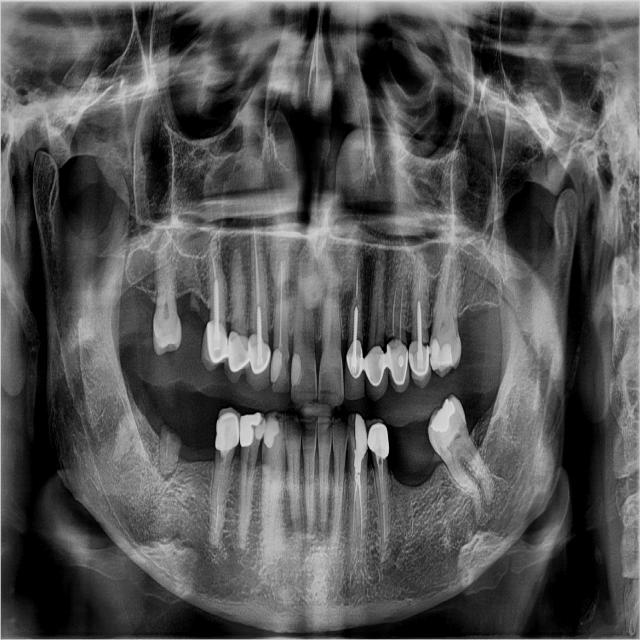Caries: (283, 354, 289, 383)
Crown: (246, 333, 271, 392), (201, 321, 229, 371), (364, 346, 388, 400), (224, 333, 249, 382), (387, 338, 409, 392), (215, 406, 241, 451), (345, 339, 364, 399), (409, 341, 431, 387), (366, 418, 389, 459)
Filling: (429, 338, 453, 373), (354, 413, 368, 473), (431, 399, 455, 432), (239, 412, 261, 447), (264, 414, 279, 448), (291, 352, 303, 390), (270, 348, 281, 384), (255, 421, 264, 439)
Missing teeth: (156, 404, 214, 441), (388, 431, 428, 449)
Root Canal Treatment: (215, 452, 230, 531), (350, 260, 360, 341), (254, 225, 260, 306), (352, 468, 359, 531), (278, 263, 283, 351), (393, 283, 398, 336), (399, 286, 403, 339), (359, 471, 362, 538), (212, 250, 217, 279), (383, 502, 385, 544), (419, 268, 421, 291)
Root Piece: (112, 413, 137, 462), (159, 424, 180, 477), (190, 290, 199, 314)
